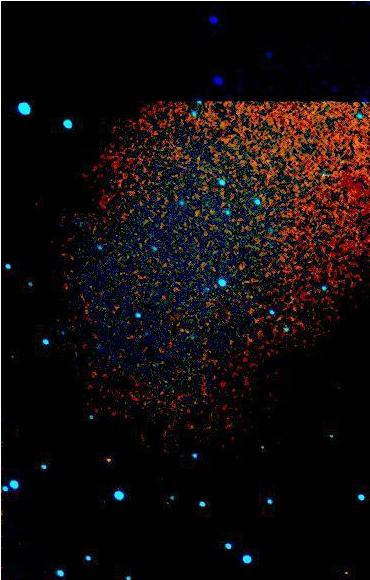star: (94, 445, 124, 475)
